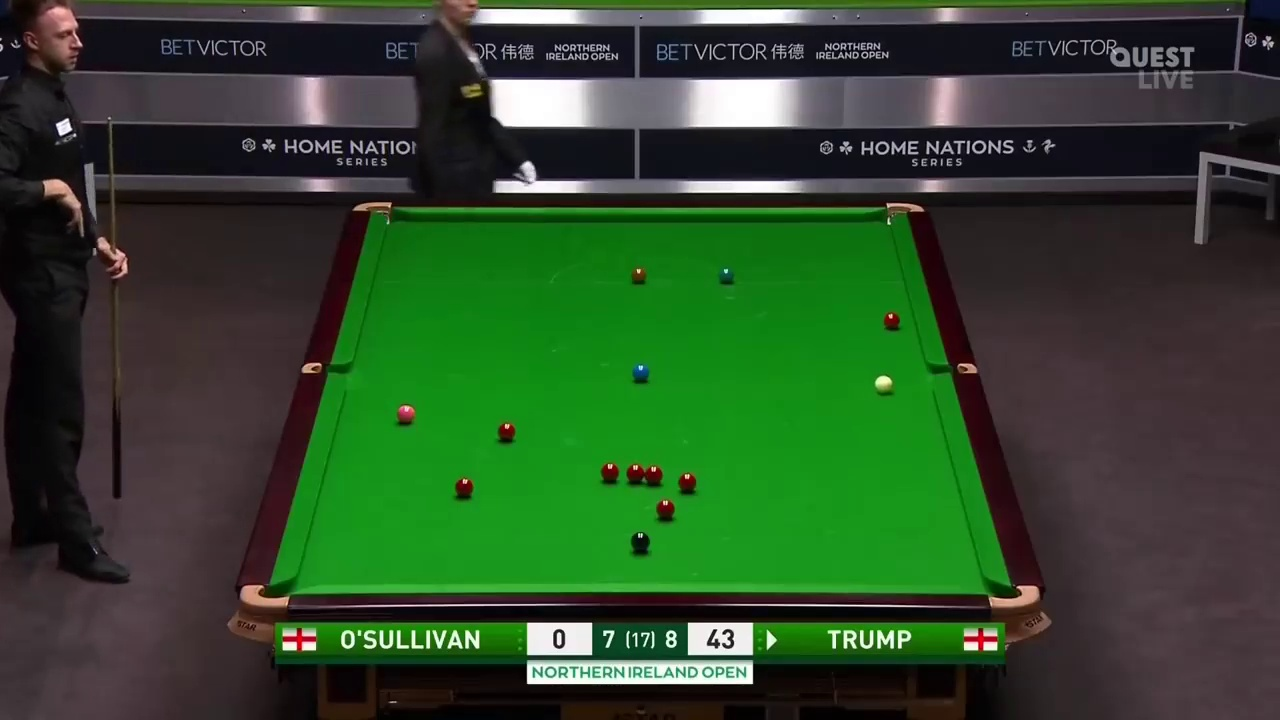ball: (454, 476, 477, 498), (599, 461, 621, 484), (677, 471, 697, 495), (875, 373, 896, 395), (656, 496, 676, 519), (630, 530, 652, 549), (882, 309, 902, 329), (717, 267, 737, 286), (397, 403, 415, 424), (498, 422, 516, 440), (629, 363, 647, 381), (633, 267, 648, 284)
